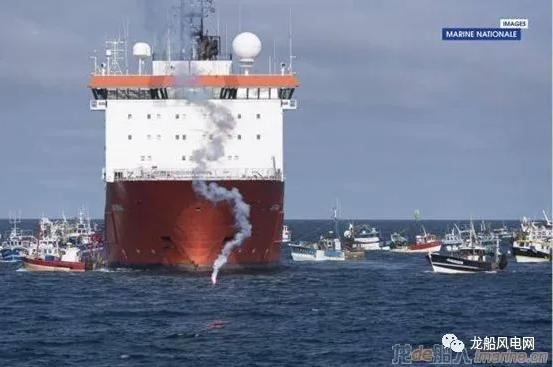Cargoship: (89, 1, 307, 278)
otherboat: (415, 223, 513, 275), (14, 226, 99, 278), (284, 225, 367, 264), (385, 225, 442, 259), (506, 228, 553, 266)
